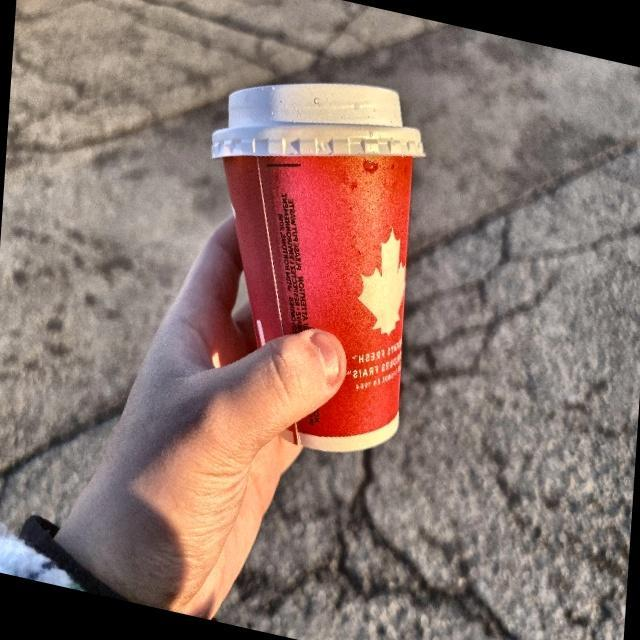timmies: (188, 71, 432, 458)
